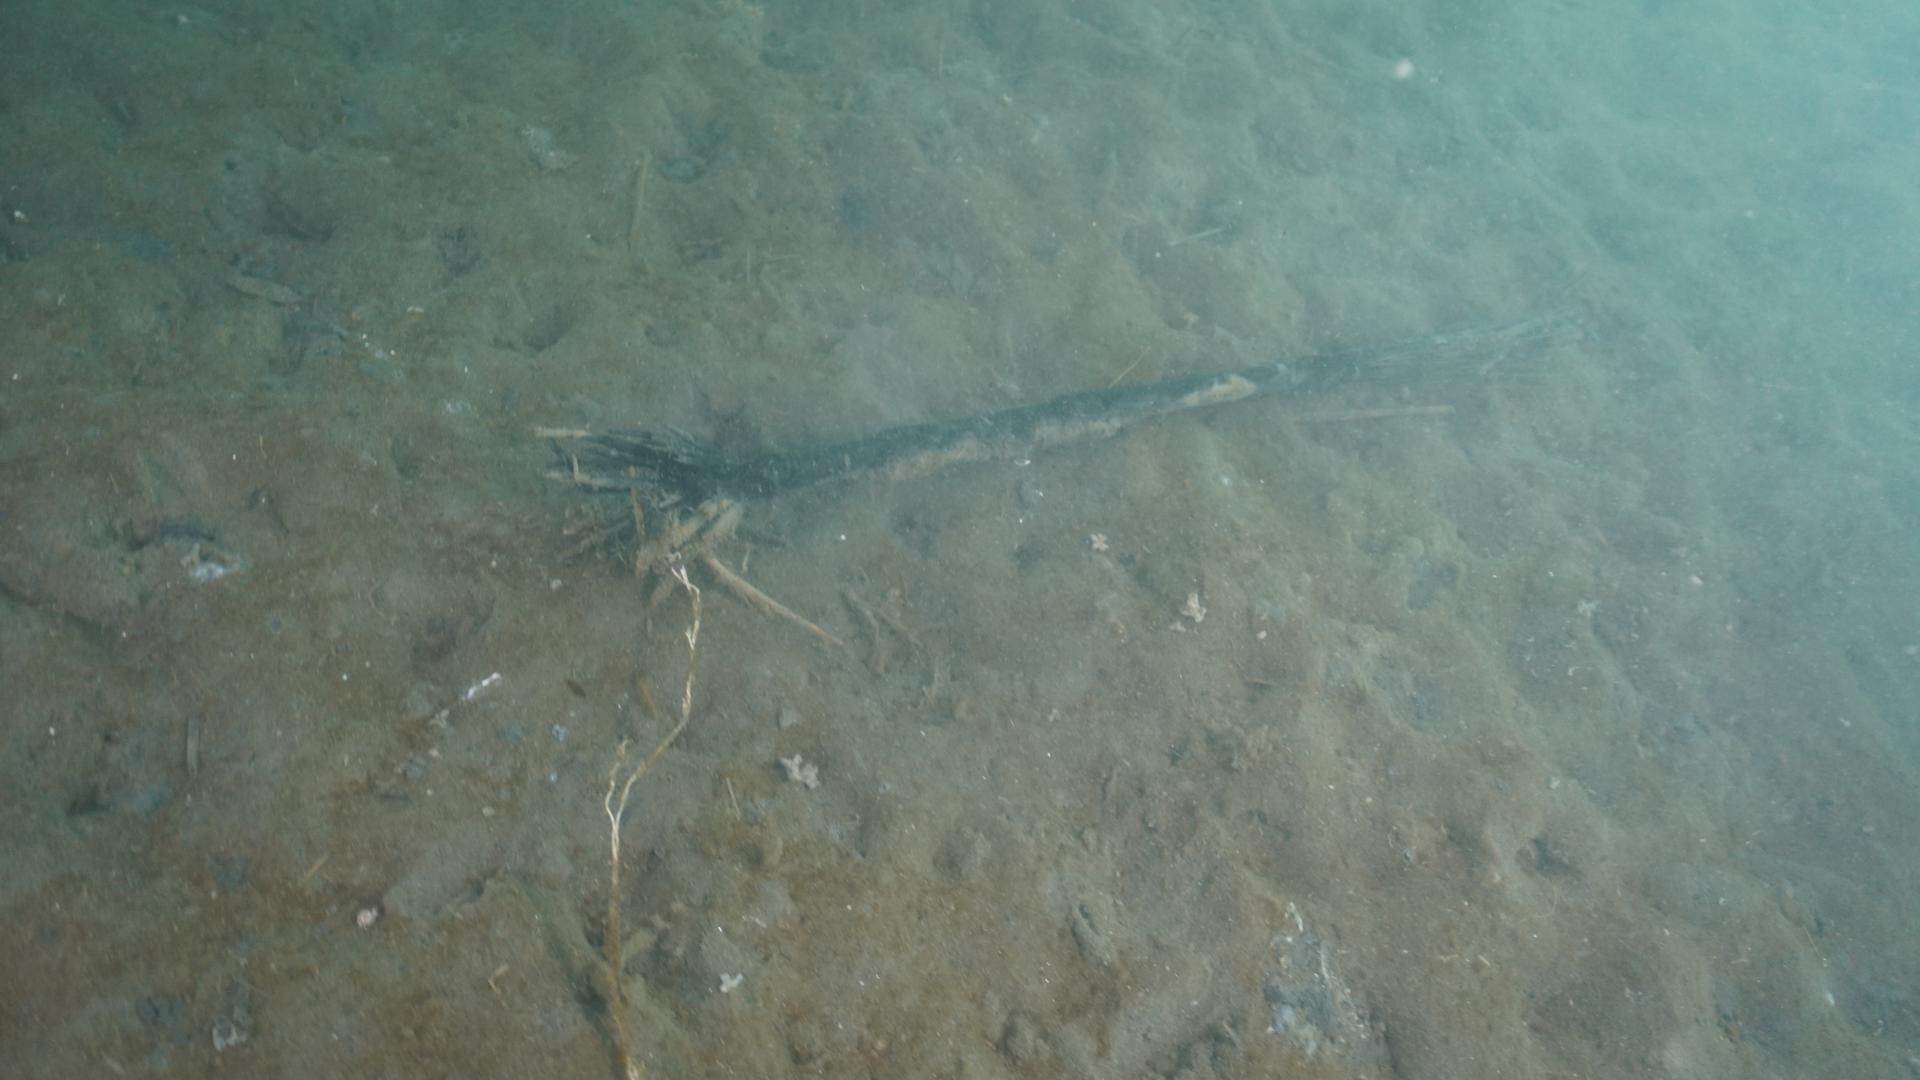wood: (531, 303, 1582, 644)
